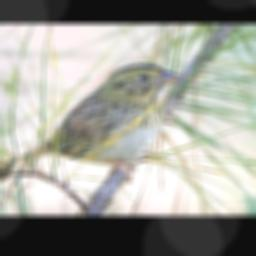Sparrow: (2, 61, 183, 182)
